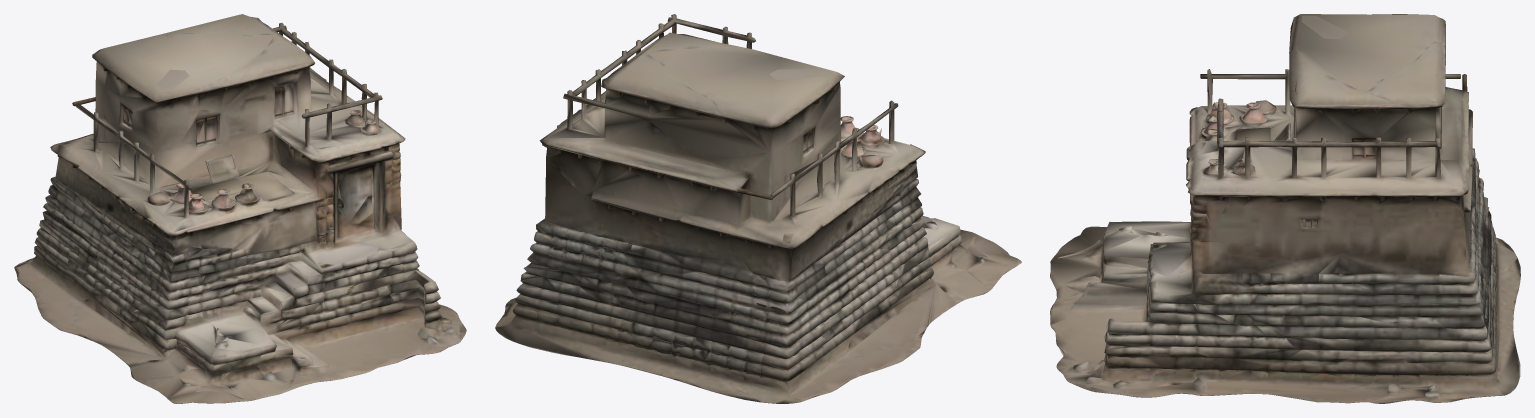
File: house_01.glb
3 renders of one model, left to right at view 1: azimuth 30°, elevation 25°; view 2: azimuth 150°, elevation 25°; view 3: azimuth 270°, elevation 25°, orthographic. The views are drawn at different scales.
Parts seen in each view (by area): view 1: node_0; view 2: node_0; view 3: node_0.
Boxes of the visible parts, x1,y1,x2,y2 form: node_0: (14, 14, 466, 403); node_0: (495, 14, 1021, 403); node_0: (1050, 14, 1520, 403).
Bounding box in the file's own units: 0.802 × 0.5361 × 0.8724.
1 material, 1 textured.
